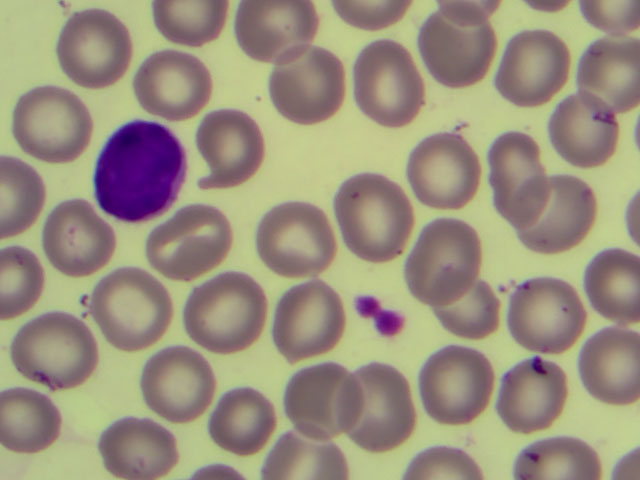Platelets: (353, 289, 405, 337)
RBC: (257, 202, 331, 277), (194, 111, 268, 186), (135, 49, 209, 124), (58, 8, 132, 83), (17, 84, 91, 159), (38, 200, 112, 275), (95, 270, 169, 345), (151, 203, 225, 278), (188, 273, 262, 348), (270, 280, 344, 355), (277, 360, 351, 435), (343, 368, 417, 443), (208, 381, 282, 456), (140, 345, 214, 420), (101, 405, 175, 480), (17, 311, 91, 386), (1, 376, 75, 451), (405, 222, 479, 297), (341, 177, 415, 252), (405, 134, 479, 209), (352, 46, 426, 121), (270, 52, 344, 127), (499, 34, 573, 109), (421, 13, 495, 88), (481, 127, 555, 202), (520, 181, 594, 256), (542, 93, 616, 168), (566, 34, 640, 109), (509, 277, 583, 352), (495, 360, 569, 435), (422, 346, 496, 421), (434, 283, 508, 358), (232, 1, 319, 60), (578, 324, 640, 405), (263, 428, 347, 480), (515, 436, 599, 480), (587, 250, 640, 319), (152, 1, 232, 45), (1, 158, 43, 233), (1, 239, 43, 314), (405, 441, 484, 480)
WBC: (93, 120, 190, 219)
